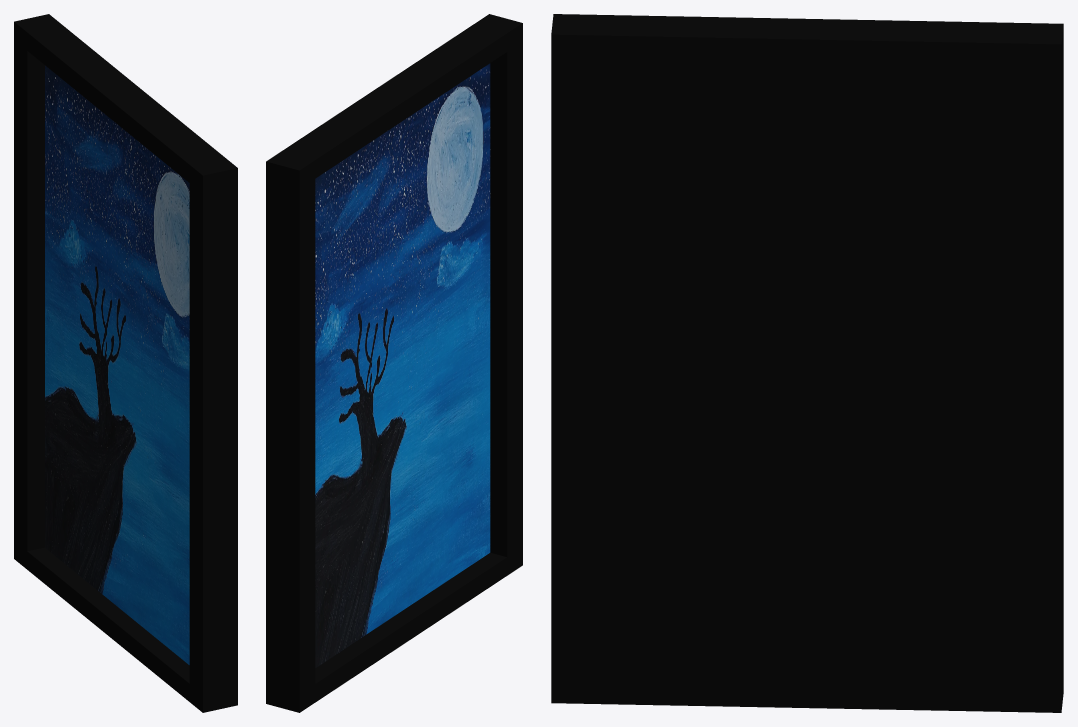
The model's file is nature_art-CsrCVI-D.glb.
3 views of the same model, side by side, from view 1: azimuth 30°, elevation 25°; view 2: azimuth 150°, elevation 25°; view 3: azimuth 270°, elevation 25° (orthographic). The views are drawn at different scales.
Parts seen in each view (by area): view 1: StudyShelf_2350; view 2: StudyShelf_2350; view 3: StudyShelf_2350.
Boxes of the visible parts, x1,y1,x2,y2 form: StudyShelf_2350: [14, 14, 237, 712]; StudyShelf_2350: [266, 14, 522, 712]; StudyShelf_2350: [551, 14, 1063, 712].
Size of the model in its own units: 14.87 by 152 by 106.
2 materials, 1 textured.
